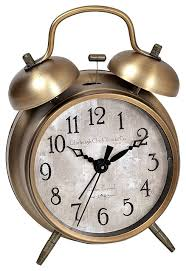alarm_clock: (5, 9, 182, 269)
